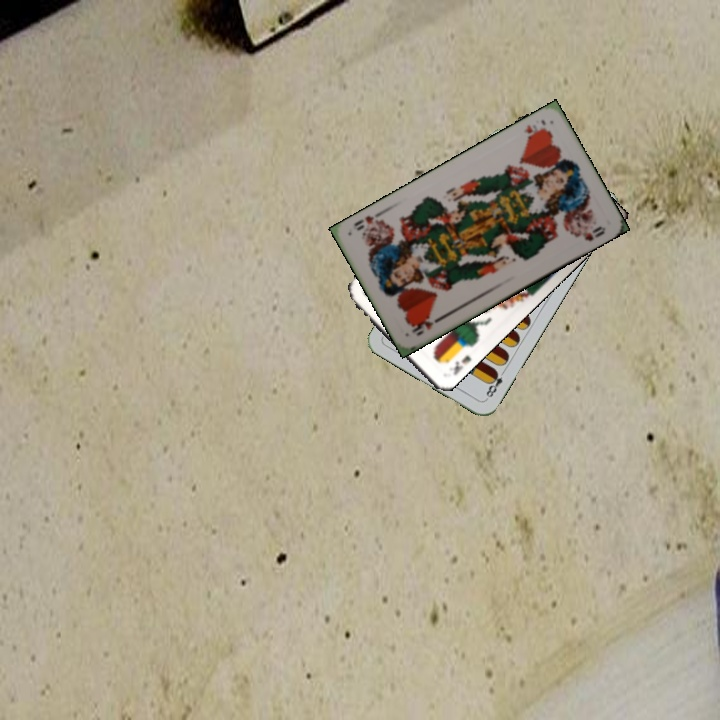E8: (482, 366, 508, 402)
EK: (449, 351, 474, 378)
HO: (408, 312, 445, 338), (520, 115, 549, 143)
